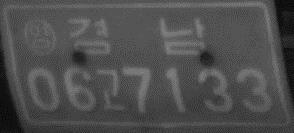0: (24, 66, 62, 113)
1: (162, 65, 188, 113)
3: (235, 67, 273, 115), (197, 66, 232, 114)
6: (63, 65, 96, 113)
7: (125, 64, 153, 115)
경남_D: (66, 14, 206, 58)
고: (95, 67, 127, 113)
영: (22, 17, 57, 56)
